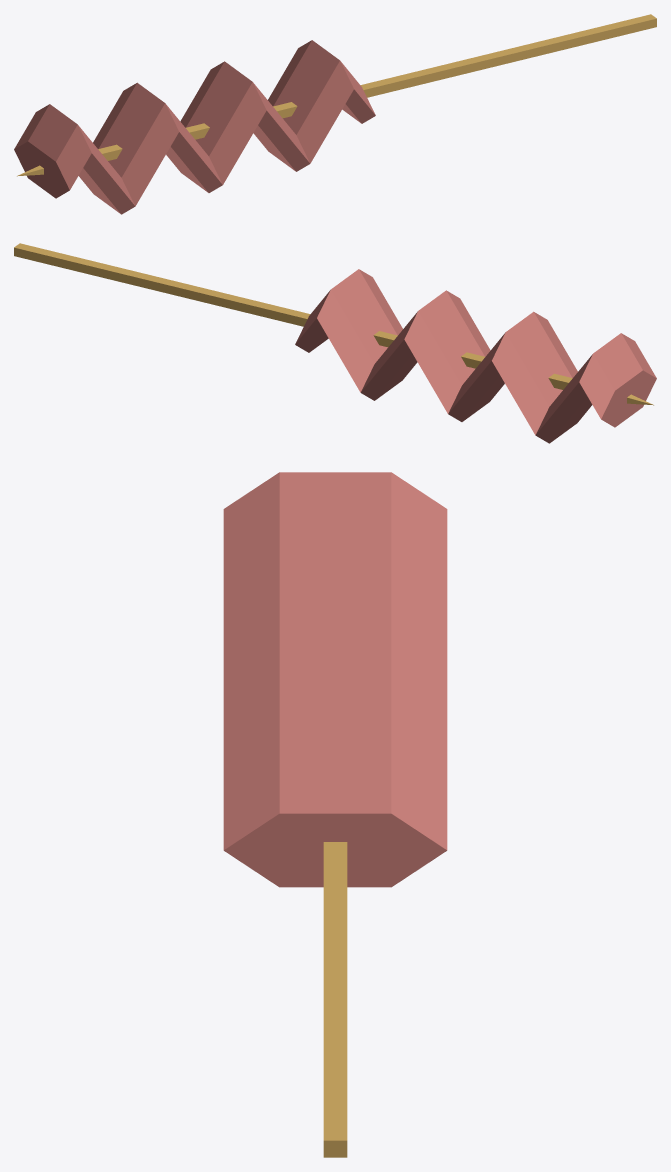
The model's file is SM_Cook_SkewerMooPing_Raw_01.fbx.
3 renders of one model, top to bottom at view 1: azimuth 30°, elevation 25°; view 2: azimuth 150°, elevation 25°; view 3: azimuth 270°, elevation 25°, orthographic. The views are drawn at different scales.
Parts seen in each view (by area): view 1: SM_Cook_SkewerMooPing_Raw_01; view 2: SM_Cook_SkewerMooPing_Raw_01; view 3: SM_Cook_SkewerMooPing_Raw_01.
Boxes of the visible parts, x1,y1,x2,y2 form: SM_Cook_SkewerMooPing_Raw_01: (14,14,656,214); SM_Cook_SkewerMooPing_Raw_01: (14,243,656,443); SM_Cook_SkewerMooPing_Raw_01: (223,472,447,1157).
Size of the model in its own units: 0.25 by 0.0378 by 0.038.
1 material, 1 textured.
